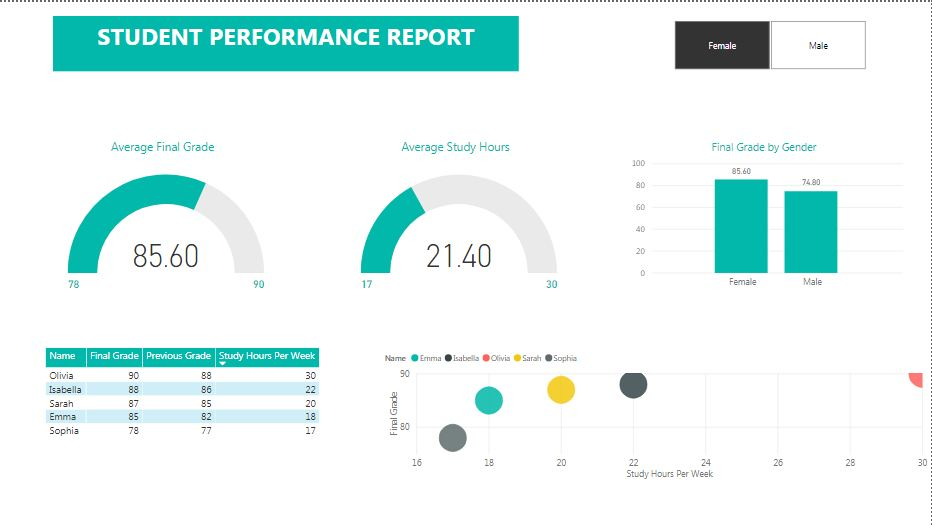

Layout of this report page (visuals, bound fields, positions):
{"tool":"powerbi","page":{"name":"Page 1","canvas":[1280,720],"ordinal":0},"visuals":[{"type":"gauge","title":"Average Final Grade","fields":{"Y":["student_performance.FinalGrade"],"MinValue":["student_performance.FinalGrade"],"MaxValue":["Sum(student_performance.FinalGrade)1"]},"box":[88.7,188.2,280.3,237.7],"z":0},{"type":"textbox","box":[74.2,19.2,640.3,75.6],"z":7},{"type":"scatterChart","fields":{"X":["student_performance.StudyHoursPerWeek"],"Y":["student_performance.FinalGrade"],"Series":["student_performance.Name"]},"box":[524.3,469.9,755.7,193.7],"z":7},{"type":"pivotTable","fields":{"Values":["student_performance.FinalGrade","student_performance.PreviousGrade","student_performance.StudyHoursPerWeek"],"Rows":["student_performance.Name"]},"box":[58.5,469.9,401.2,193.7],"z":2000},{"type":"gauge","title":"Average Study Hours","fields":{"Y":["student_performance.StudyHoursPerWeek"],"MinValue":["student_performance.StudyHoursPerWeek"],"MaxValue":["student_performance.StudyHoursPerWeek"]},"box":[491.3,188.2,280.3,237.7],"z":3000},{"type":"slicer","fields":{"Values":["student_performance.Gender"]},"box":[902.7,19.2,311.9,79.7],"z":4000},{"type":"clusteredColumnChart","title":"Final Grade by Gender","fields":{"Category":["student_performance.Gender"],"Y":["student_performance.FinalGrade"]},"box":[863.7,188.2,383.4,214.4],"z":5000}]}

Visuals, with their boxes in screenshot pixels (x1, y1, x2, y2), scaled from the page's 1280x720 canvas onto the 932x525 screenshot:
"Average Final Grade" gauge: (left=65, top=137, right=269, bottom=311)
textbox: (left=54, top=14, right=520, bottom=69)
scatterChart - student_performance.StudyHoursPerWeek x student_performance.FinalGrade: (left=382, top=343, right=931, bottom=484)
pivotTable - student_performance.FinalGrade x student_performance.PreviousGrade: (left=43, top=343, right=335, bottom=484)
"Average Study Hours" gauge: (left=358, top=137, right=562, bottom=311)
slicer - student_performance.Gender: (left=657, top=14, right=884, bottom=72)
"Final Grade by Gender" clusteredColumnChart: (left=629, top=137, right=908, bottom=294)
